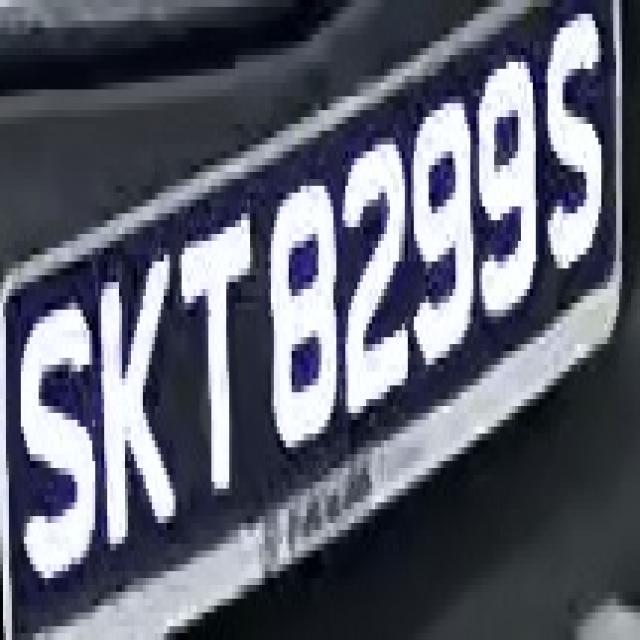2: (339, 130, 417, 434)
8: (259, 172, 342, 468)
9: (470, 48, 548, 344), (405, 97, 479, 386)
K: (92, 241, 182, 578)
S: (12, 282, 98, 606), (539, 7, 616, 310)
T: (167, 213, 265, 510)
